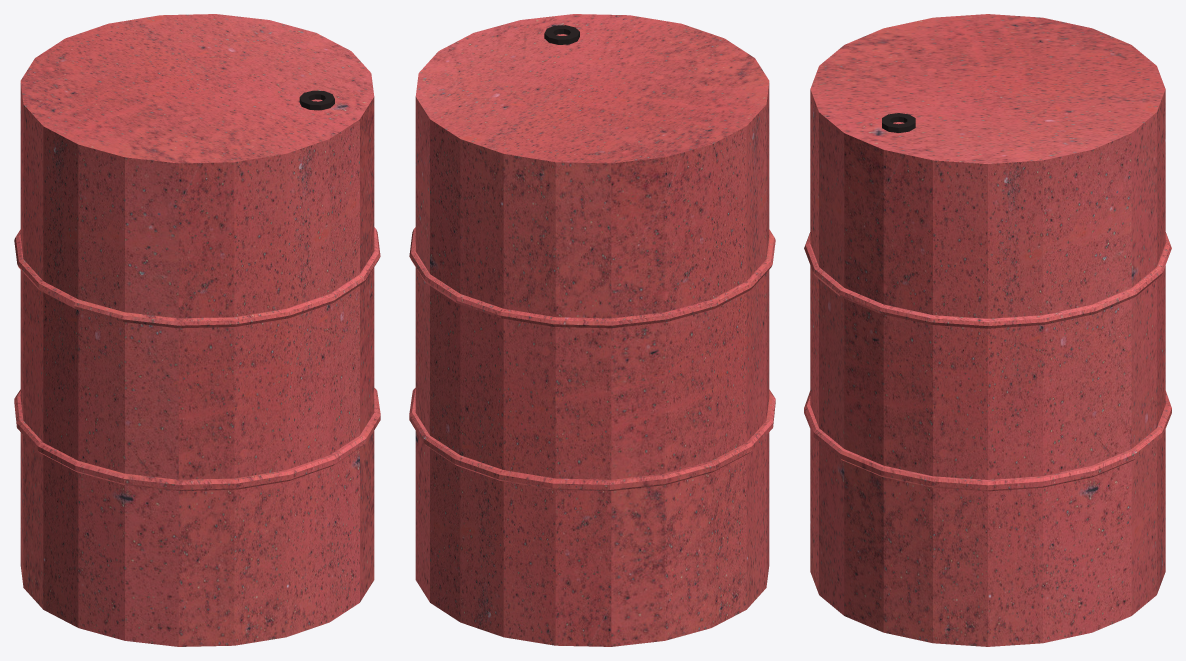
The model's file is Red Barrel.fbx.
The picture shows the model from 3 angles, left to right: view 1: azimuth 30°, elevation 25°; view 2: azimuth 150°, elevation 25°; view 3: azimuth 270°, elevation 25°; orthographic projection.
Parts seen in each view (by area): view 1: pCylinder1, pCylinder2; view 2: pCylinder1, pCylinder2; view 3: pCylinder1, pCylinder2.
Part boxes in pixels (box(x1,y1,x2,y2)): pCylinder1: box(14, 14, 380, 646); pCylinder2: box(299, 90, 334, 110); pCylinder1: box(409, 14, 775, 646); pCylinder2: box(544, 25, 579, 44); pCylinder1: box(804, 14, 1171, 646); pCylinder2: box(882, 113, 915, 132).
Size of the model in its own units: 2.07 by 3.03 by 2.07.
Materials: 6 (4 with a texture image).
